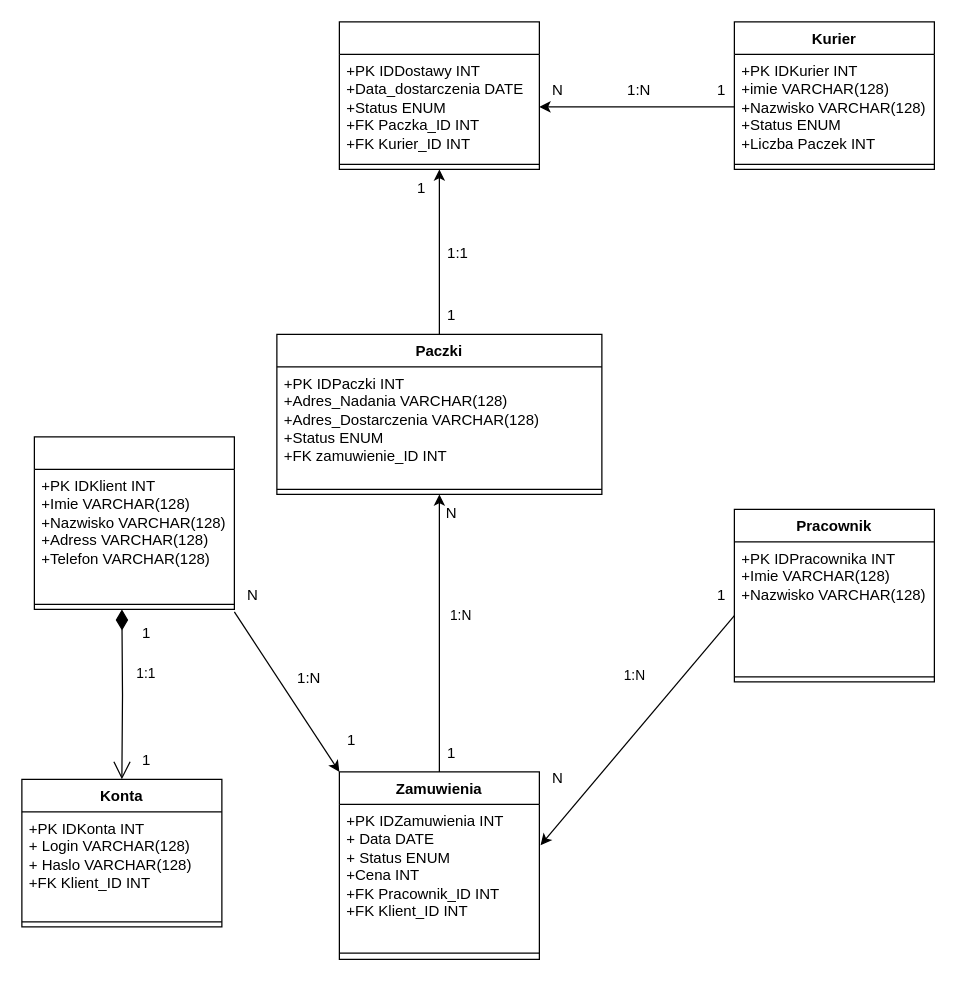
Image size: 956x981. Some labels were removed from this diagram. The box of each missing label's shape, as (x1, y1, x2, y2) in pixels:
Dostawa: (338, 21, 539, 169)
Klienci: (33, 436, 234, 609)
